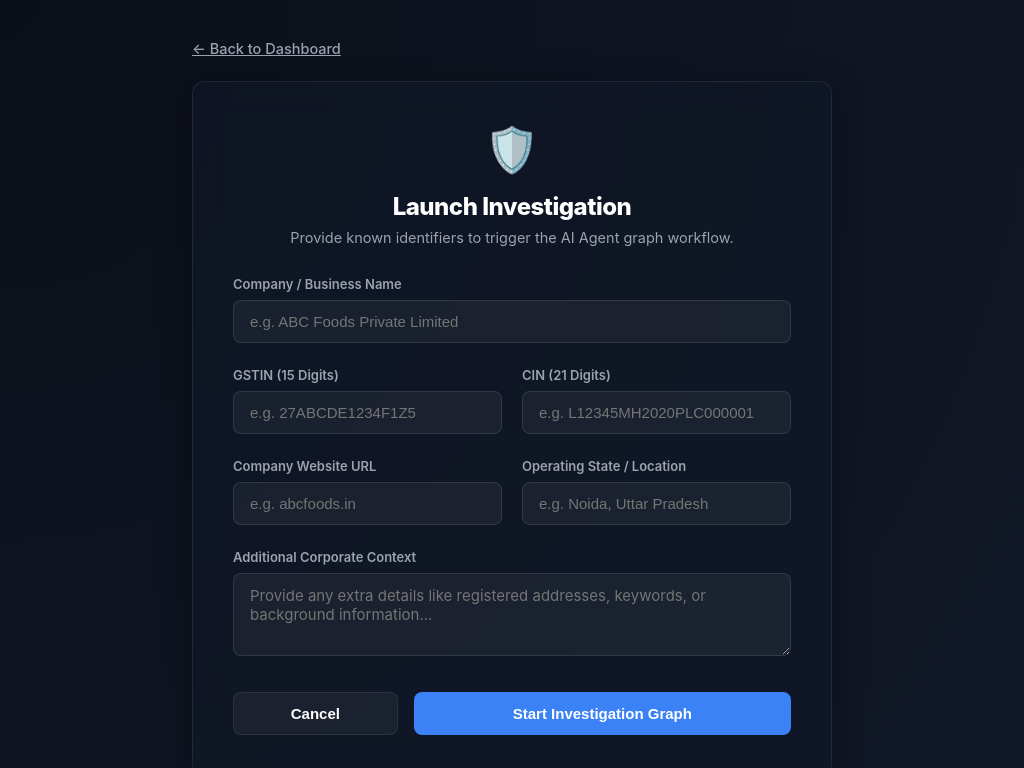
Test: BizRisk Frontend Component Tests › shows error message if API fails during launch
In the field labelled "Company / Business Name": (512,322) [233,300,791,343], type "Invalid Corp"
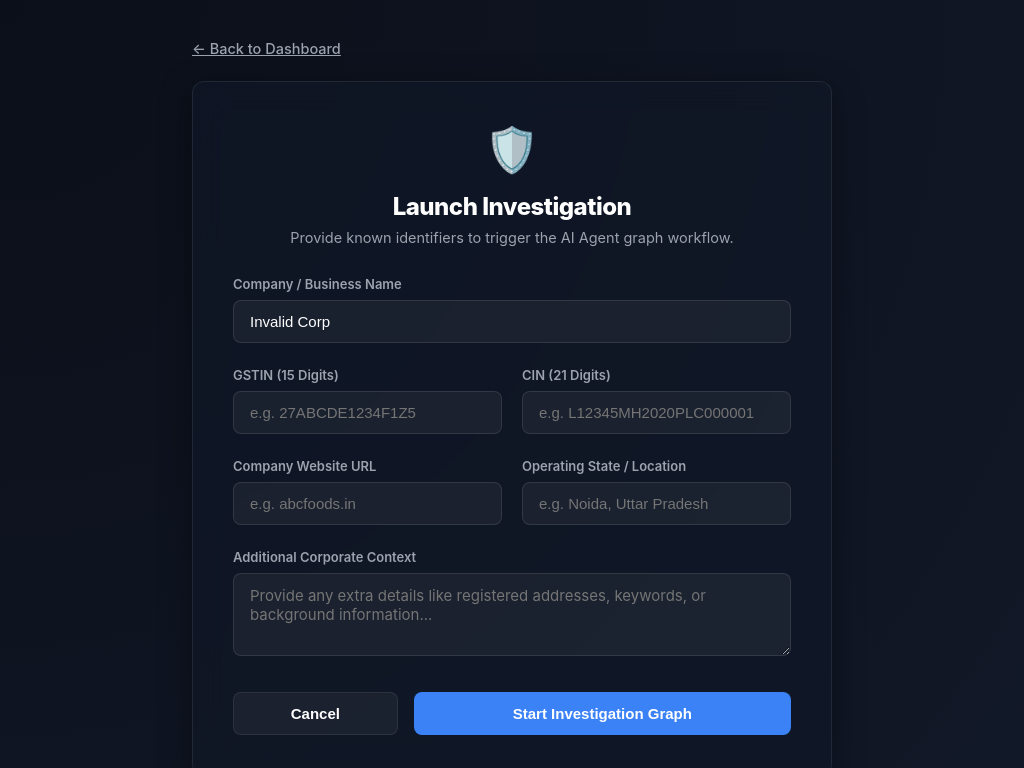
Click the button "Start Investigation Graph": (602,714) [414,692,791,735]
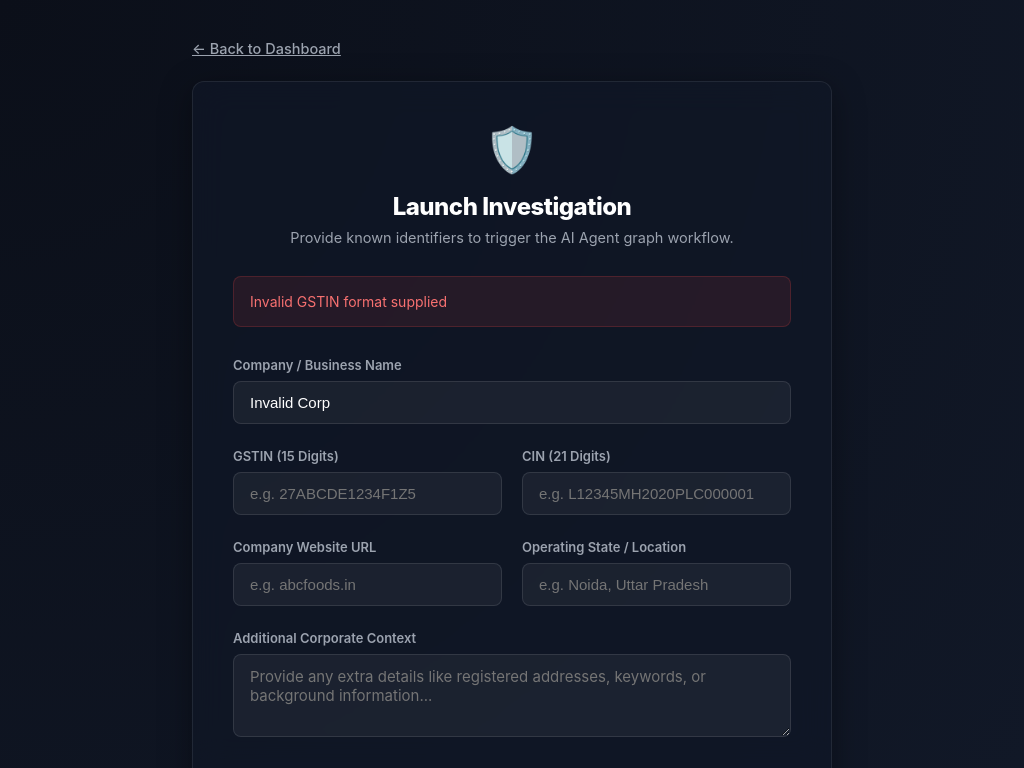
Result: the text "Invalid GSTIN format supplied" is shown at [233,276,791,327]
